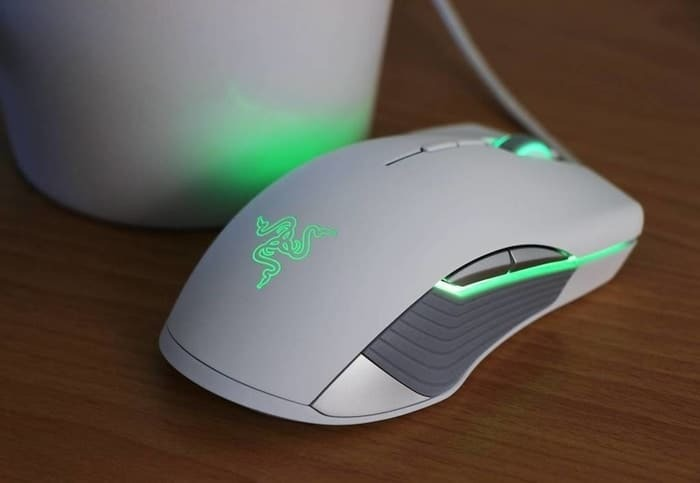mouse: (153, 118, 647, 433)
